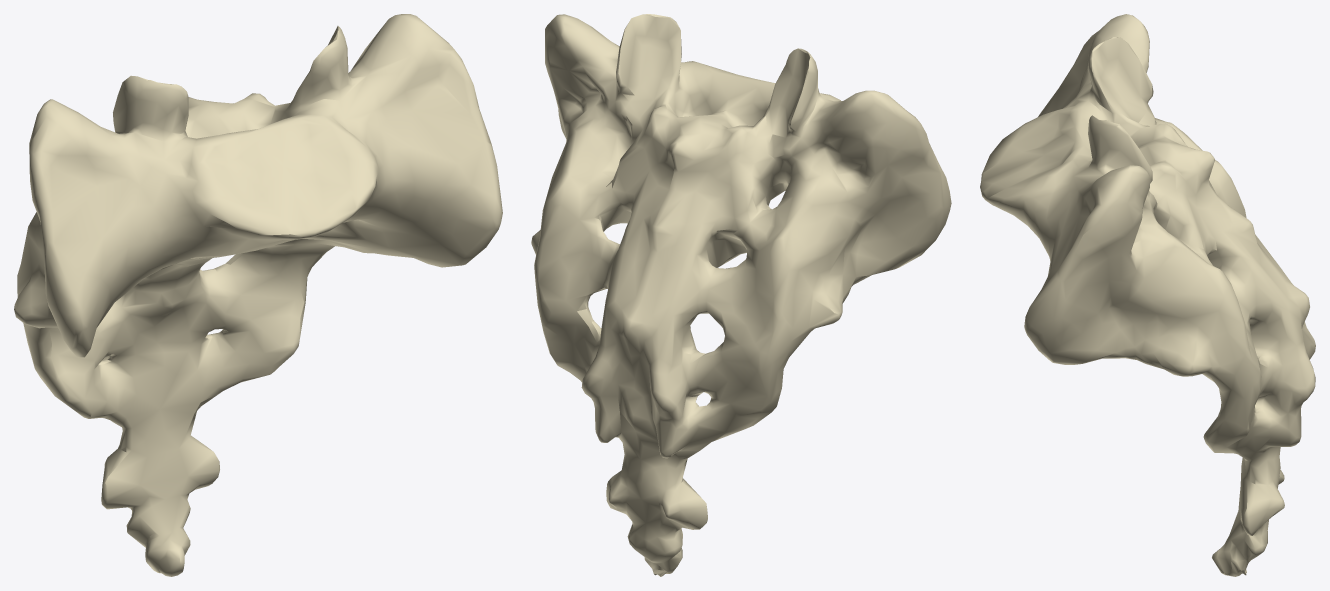
File: sacrum.glb
3 views of the same model, side by side, from view 1: azimuth 30°, elevation 25°; view 2: azimuth 150°, elevation 25°; view 3: azimuth 270°, elevation 25° (orthographic). The views are drawn at different scales.
Parts seen in each view (by area): view 1: Sacrum; view 2: Sacrum; view 3: Sacrum.
Boxes of the visible parts, x1,y1,x2,y2 form: Sacrum: [14, 14, 502, 576]; Sacrum: [531, 14, 951, 576]; Sacrum: [980, 14, 1315, 576].
Bounding box in the file's own units: 0.1176 × 0.1443 × 0.0887.
